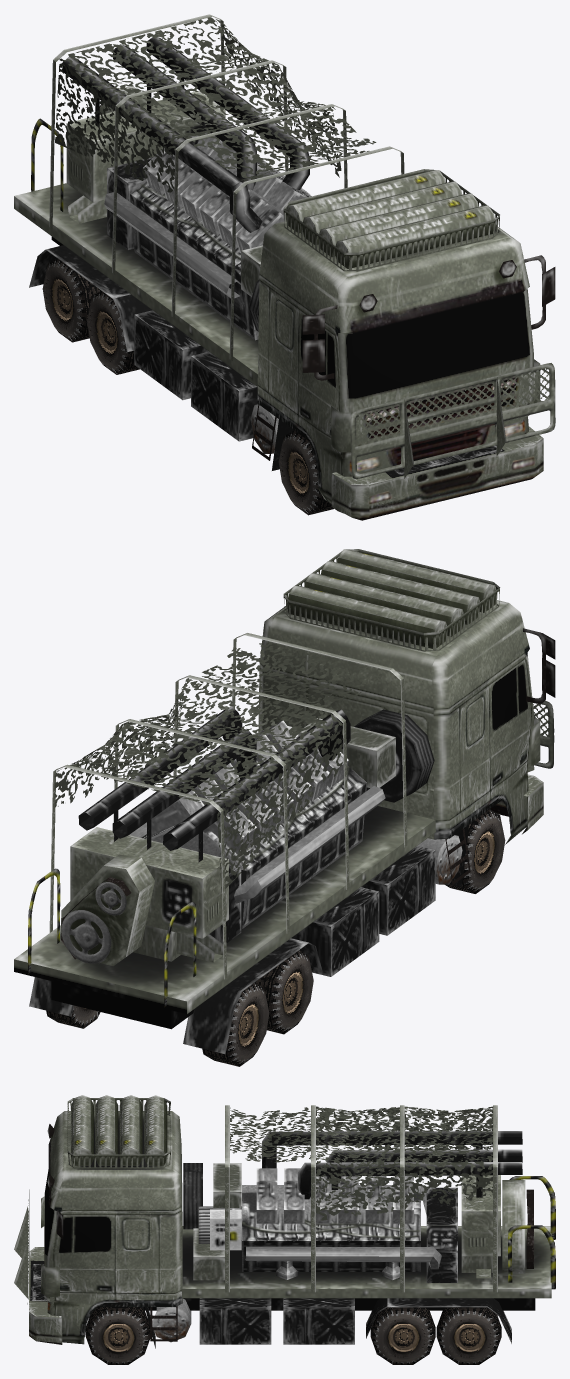
Rendered from USA-Generator_Truck.FBX.
3 renders of one model, top to bottom at view 1: azimuth 30°, elevation 25°; view 2: azimuth 150°, elevation 25°; view 3: azimuth 270°, elevation 25°, orthographic. The views are drawn at different scales.
Parts seen in each view (by area): view 1: truck, gen, bumper, Cylinder006, Cylinder04, Cylinder005; view 2: truck, gen, Cylinder005, Cylinder006, Cylinder04, bumper, Cylinder007; view 3: truck, gen, box, Cylinder009, Cylinder007, Cylinder008, bumper.
Boxes of the visible parts, x1,y1,x2,y2 form: truck: (14, 14, 555, 503); gen: (62, 37, 311, 340); bumper: (331, 363, 555, 520); Cylinder006: (42, 258, 100, 342); Cylinder04: (278, 430, 333, 515); Cylinder005: (87, 290, 139, 374); truck: (14, 549, 555, 1054); gen: (60, 706, 395, 966); Cylinder005: (255, 950, 313, 1034); Cylinder006: (202, 982, 269, 1066); Cylinder04: (445, 809, 505, 893); bumper: (522, 700, 554, 834); Cylinder007: (46, 1005, 100, 1028); truck: (41, 1095, 555, 1348); gen: (193, 1131, 533, 1282); box: (283, 1298, 354, 1344); Cylinder009: (85, 1307, 150, 1364); Cylinder007: (436, 1307, 501, 1364); Cylinder008: (370, 1307, 435, 1364); bumper: (14, 1189, 62, 1344).
Bounding box in the file's own units: 50.43 × 53.87 × 126.
